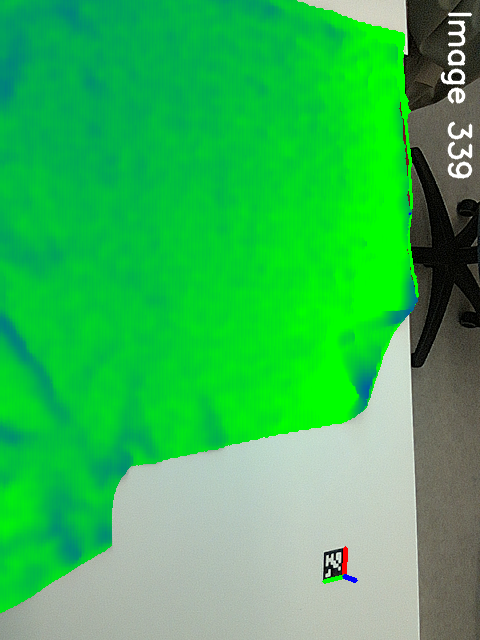V: (333, 312, 370, 358)
